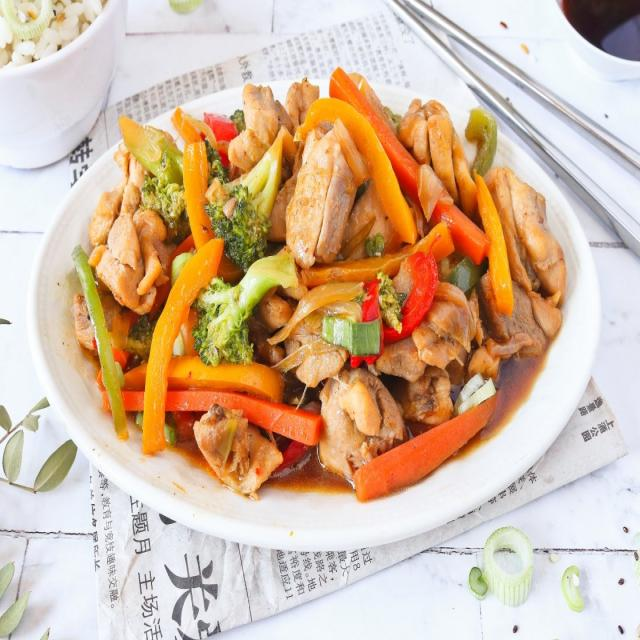pollo: (284, 132, 373, 276), (91, 178, 175, 322)
